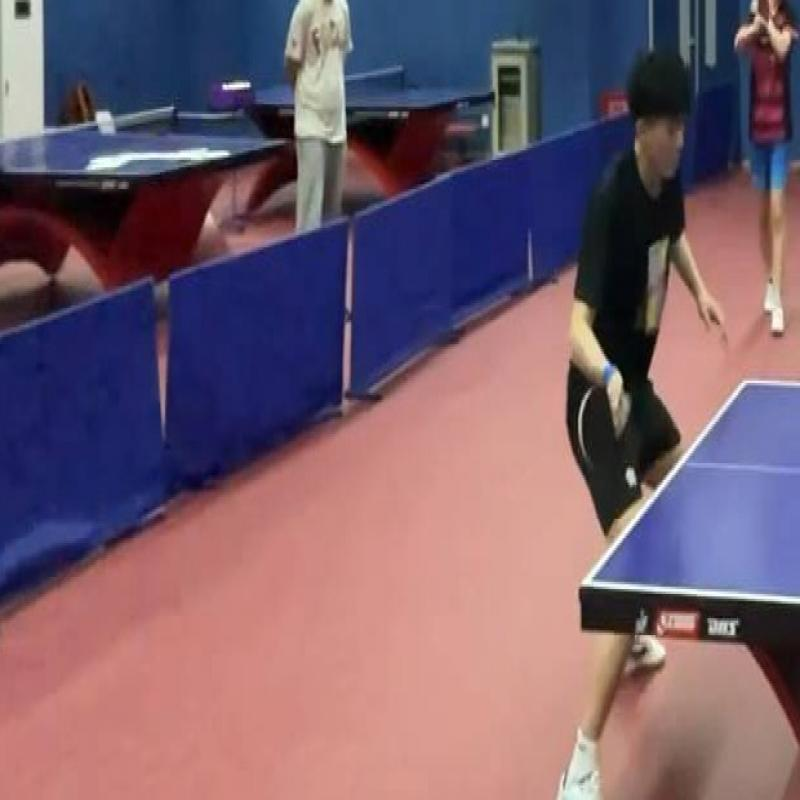bats: (566, 378, 620, 480)
